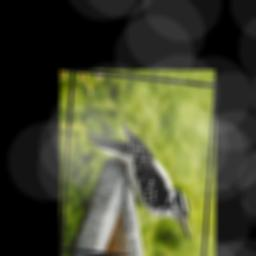Woodpecker: (76, 118, 201, 243)
